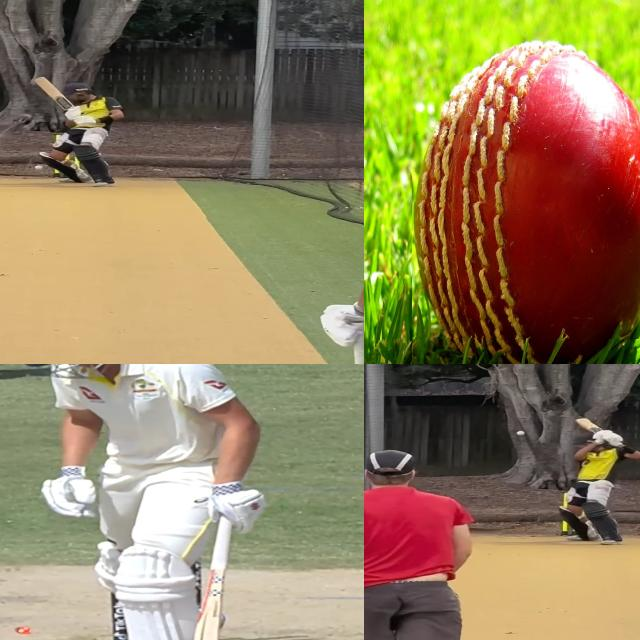Cricket ball: (412, 33, 640, 364), (514, 429, 527, 437), (33, 164, 46, 171)
